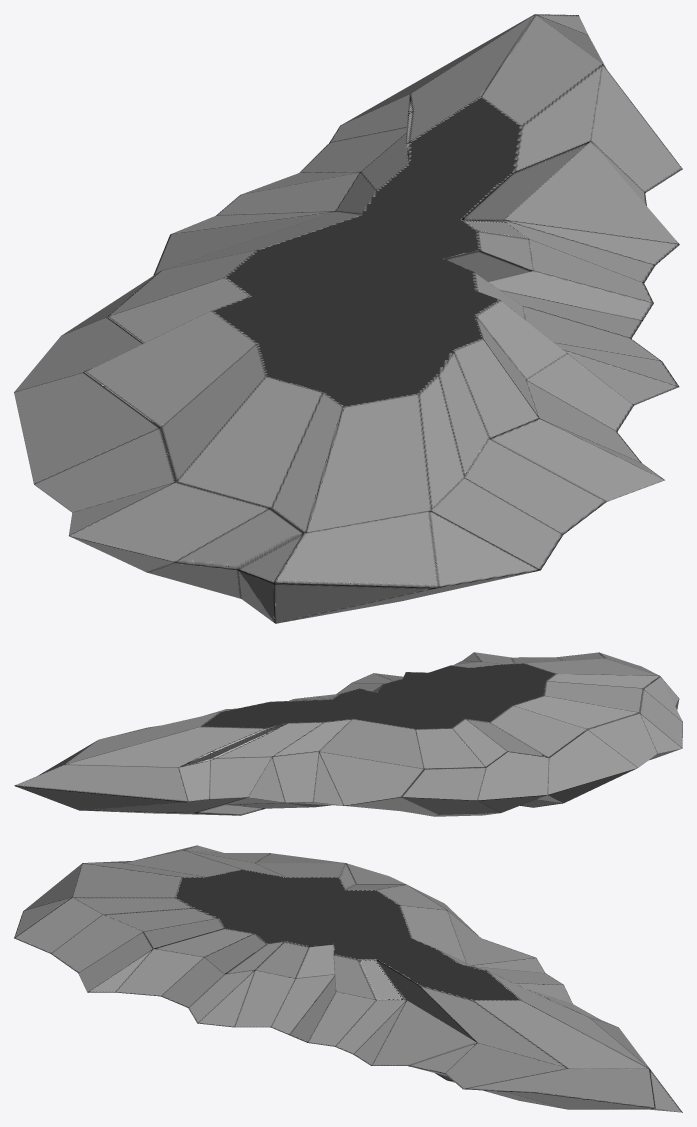
File: silex.dae
The picture shows the model from 3 angles, top to bottom: view 1: azimuth 30°, elevation 25°; view 2: azimuth 150°, elevation 25°; view 3: azimuth 270°, elevation 25°; orthographic projection. The views are drawn at different scales.
Parts seen in each view (by area): view 1: Silex; view 2: Silex; view 3: Silex.
Boxes of the visible parts, box(x1,y1,x2,y2) form: Silex: box(14, 14, 682, 623); Silex: box(14, 652, 682, 816); Silex: box(14, 845, 682, 1112).
Bounding box in the file's own units: 6.24 × 6.6 × 0.9431.
